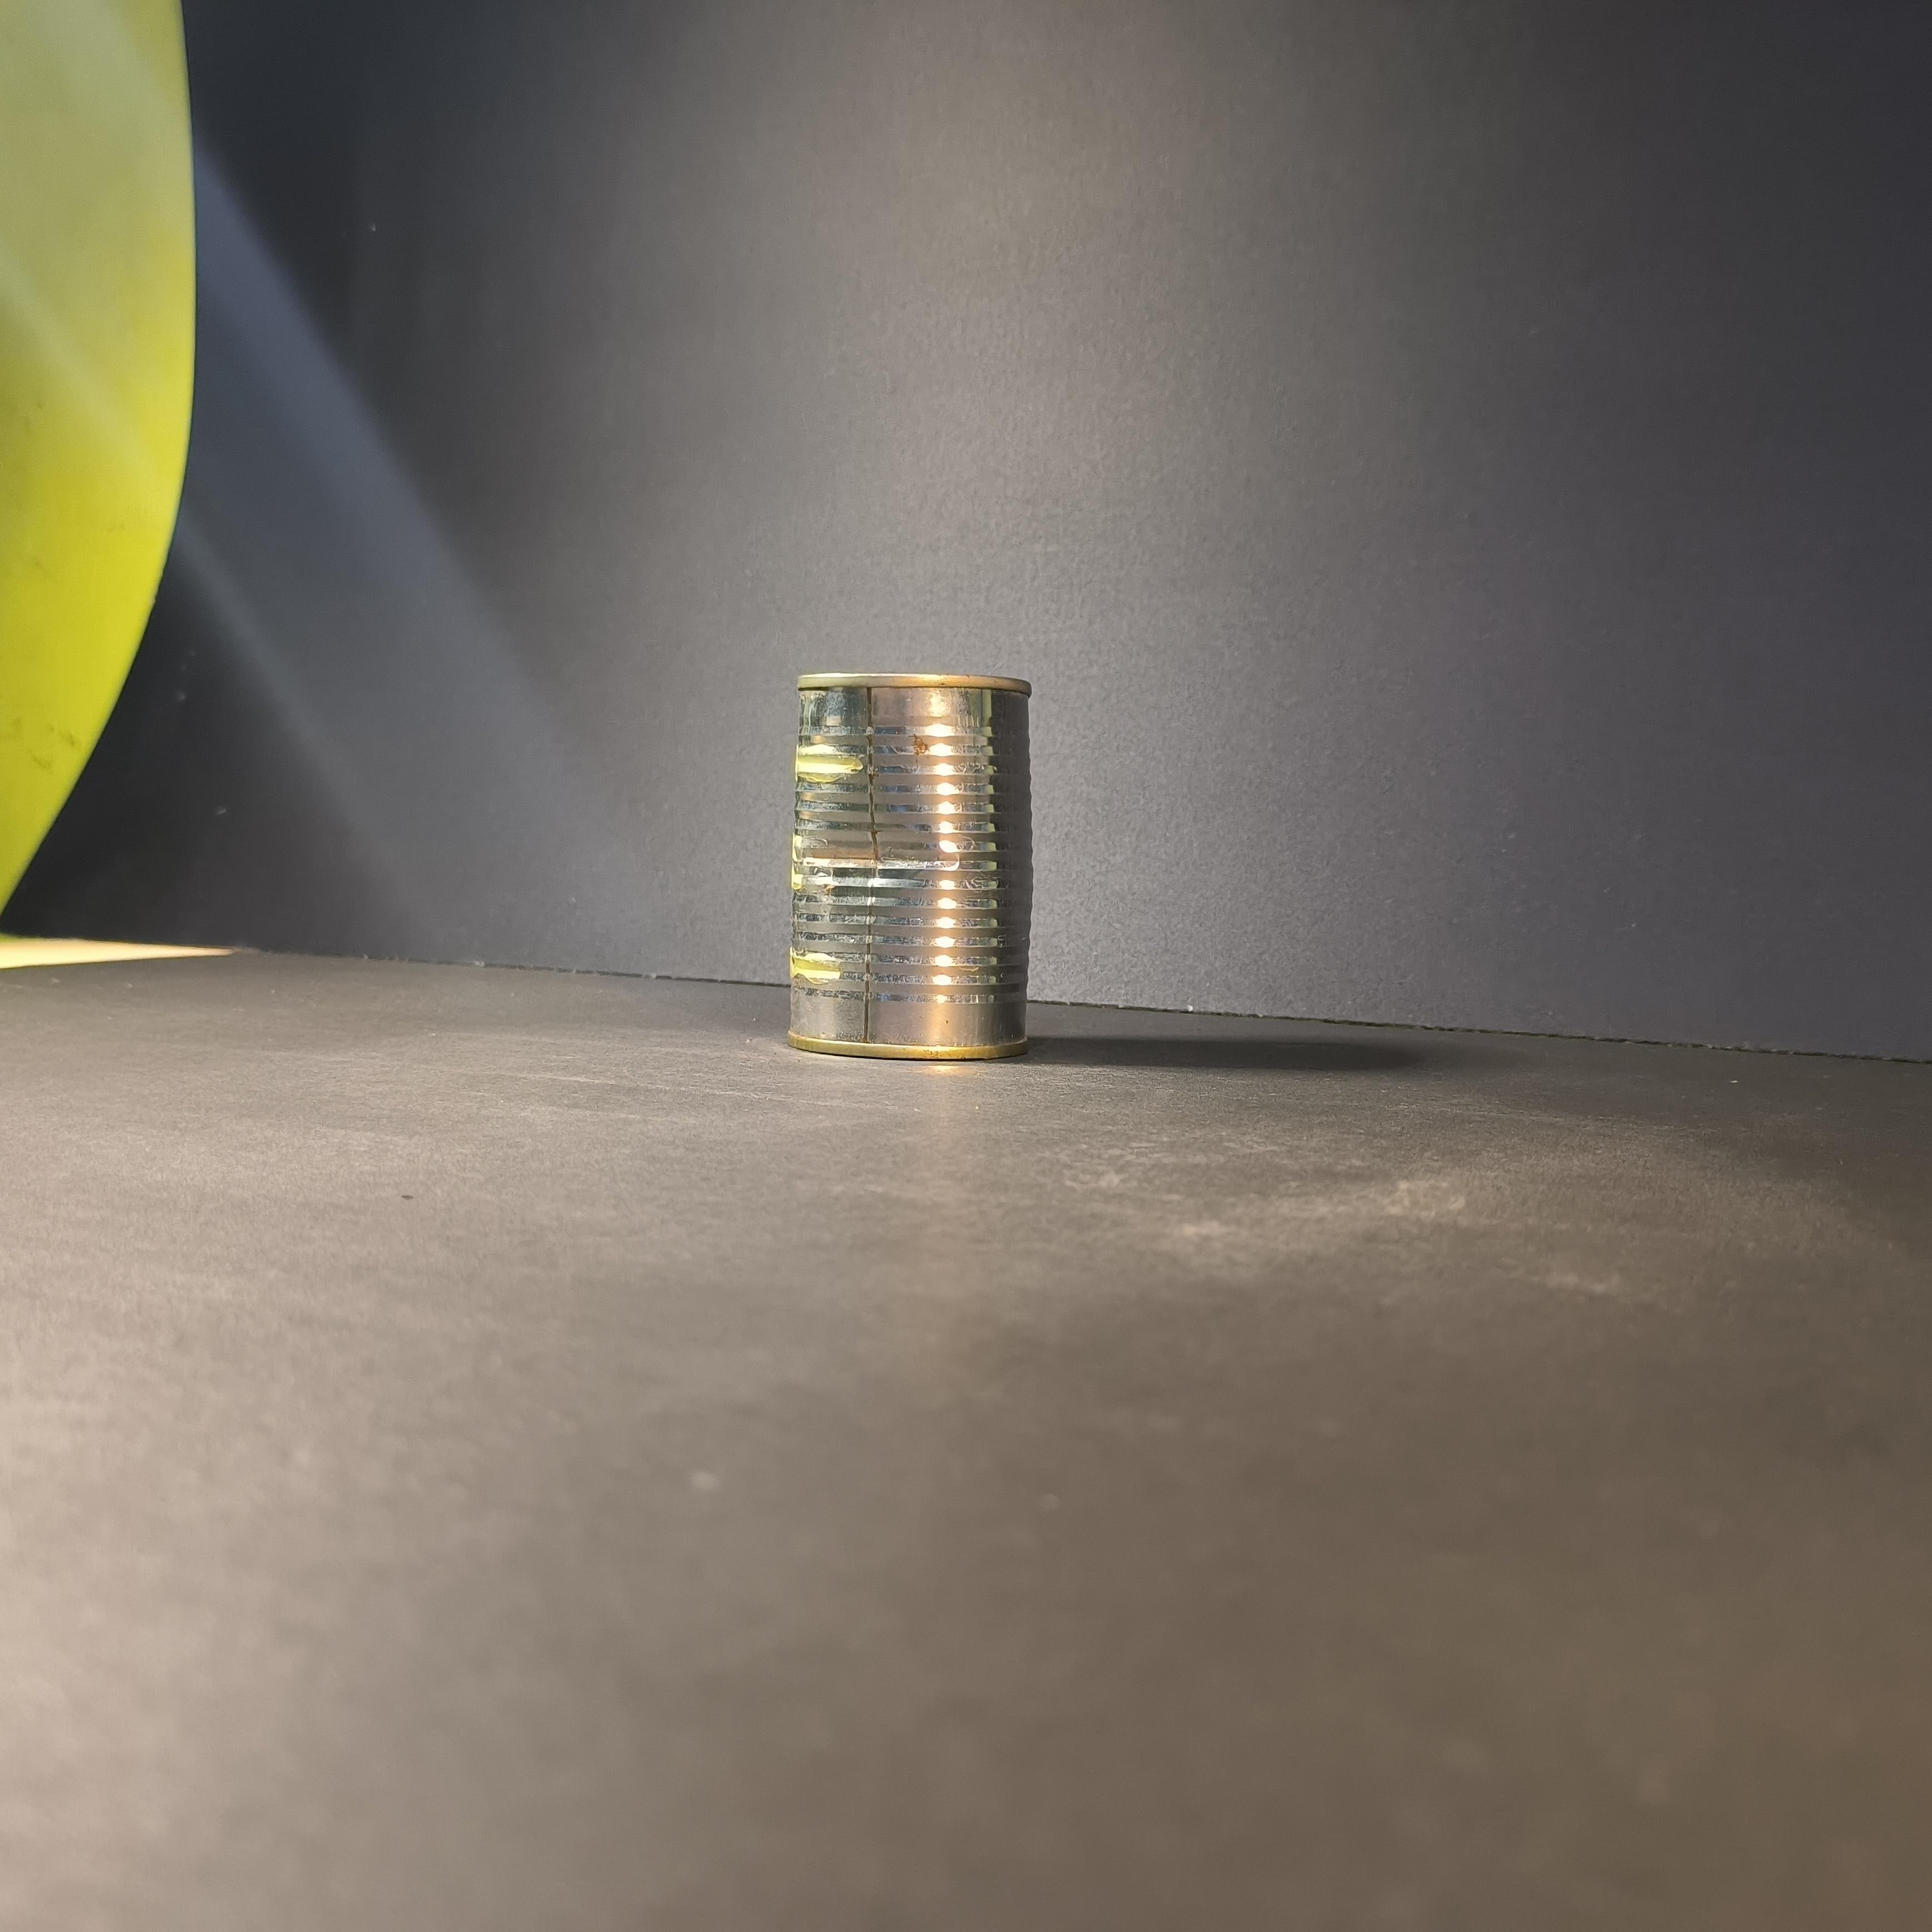Dented: (791, 640, 1046, 1088)
